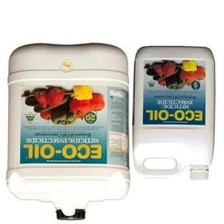insecticide: (3, 39, 132, 222), (129, 41, 218, 183)
